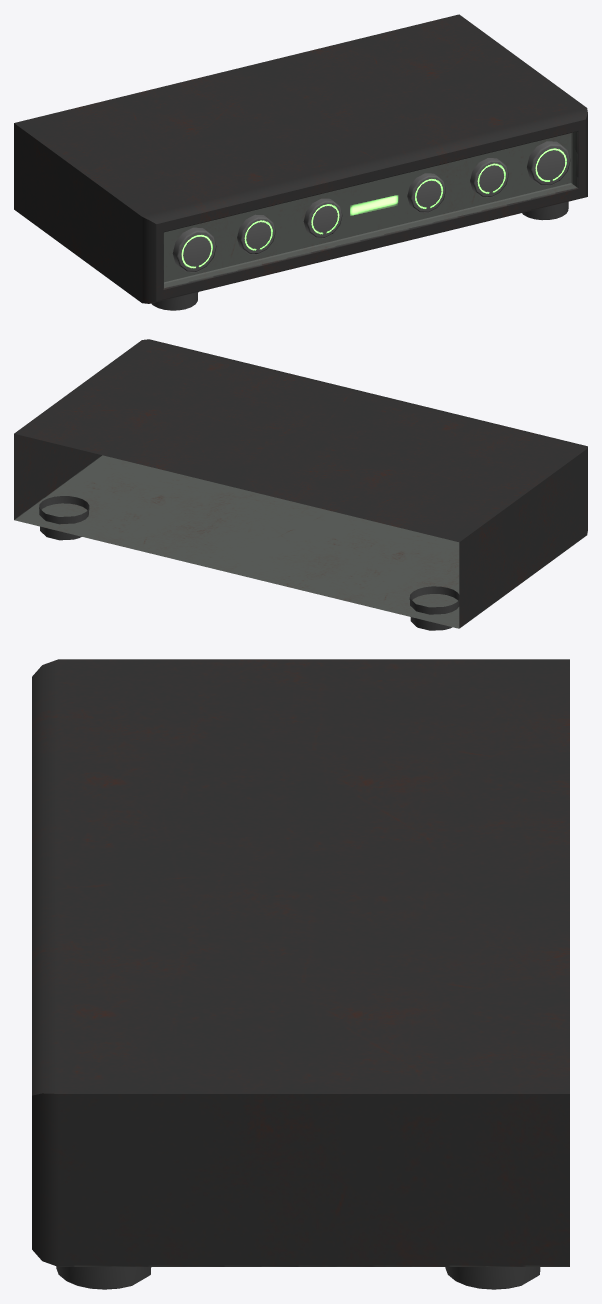
The model's file is Radio 1 text.fbx.
3 views of the same model, one above another, from view 1: azimuth 30°, elevation 25°; view 2: azimuth 150°, elevation 25°; view 3: azimuth 270°, elevation 25° (orthographic). The views are drawn at different scales.
Parts seen in each view (by area): view 1: radiio; view 2: radiio; view 3: radiio.
Boxes of the visible parts, x1,y1,x2,y2 form: radiio: [14, 14, 587, 310]; radiio: [14, 339, 587, 630]; radiio: [32, 659, 569, 1289].
Size of the model in its own units: 37.21 by 8.29 by 19.46.
3 materials, 3 textured.
